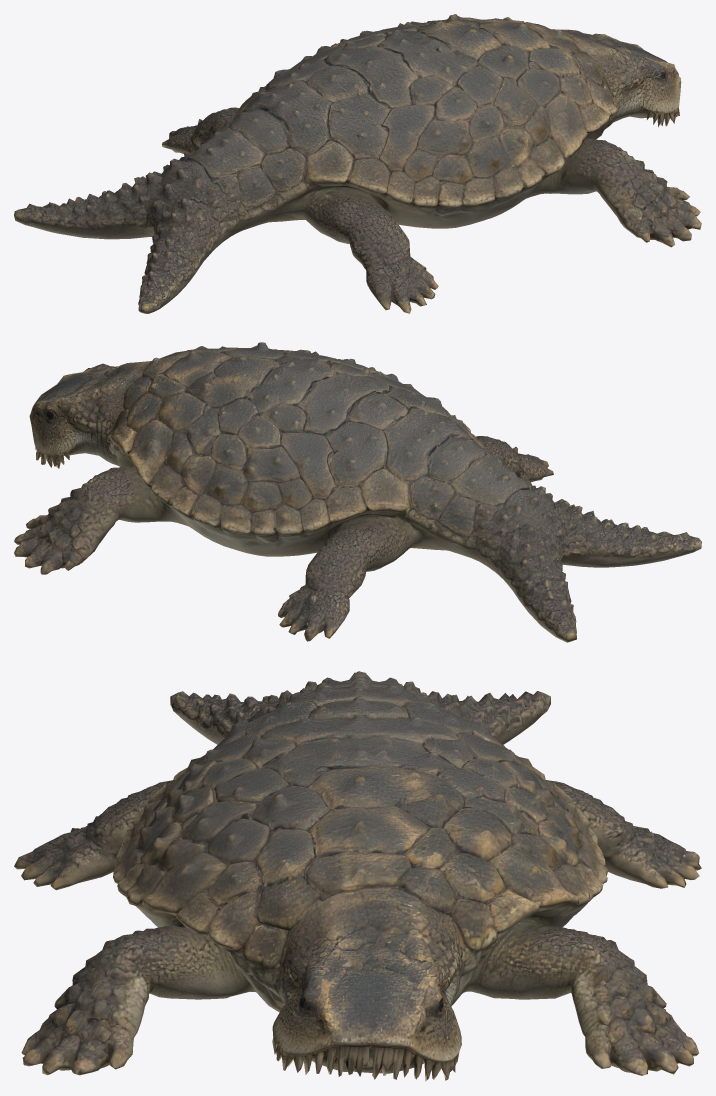
The model's file is henodus.preview.glb.
The picture shows the model from 3 angles, top to bottom: view 1: azimuth 30°, elevation 25°; view 2: azimuth 150°, elevation 25°; view 3: azimuth 270°, elevation 25°; orthographic projection. The views are drawn at different scales.
Parts seen in each view (by area): view 1: tripo_node_521afa1a-b50a-4d12-add2-cc8f441e88f0.001; view 2: tripo_node_521afa1a-b50a-4d12-add2-cc8f441e88f0.001; view 3: tripo_node_521afa1a-b50a-4d12-add2-cc8f441e88f0.001.
Part boxes in pixels (x1,y1,x2,y2): tripo_node_521afa1a-b50a-4d12-add2-cc8f441e88f0.001: (14, 14, 701, 313); tripo_node_521afa1a-b50a-4d12-add2-cc8f441e88f0.001: (14, 342, 701, 642); tripo_node_521afa1a-b50a-4d12-add2-cc8f441e88f0.001: (14, 671, 701, 1081).
Size of the model in its own units: 1 by 0.2454 by 0.6945.
1 material, 1 textured.
